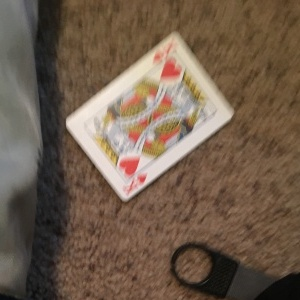card: (63, 32, 236, 201)
